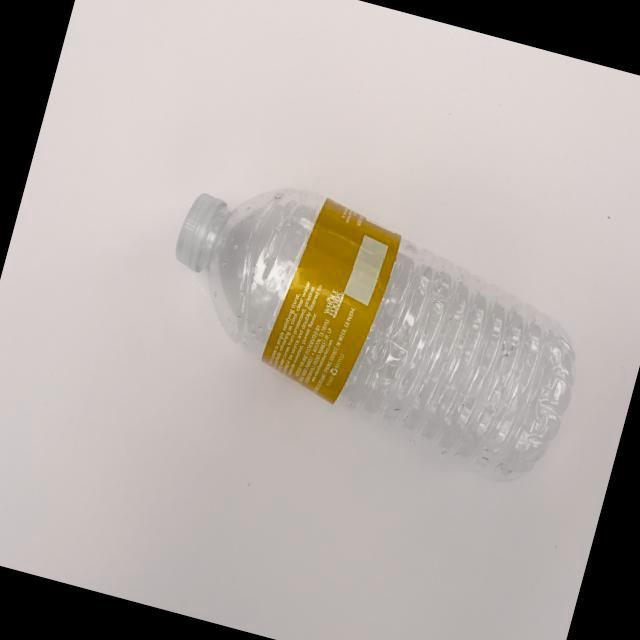plastic: (120, 136, 620, 518)
